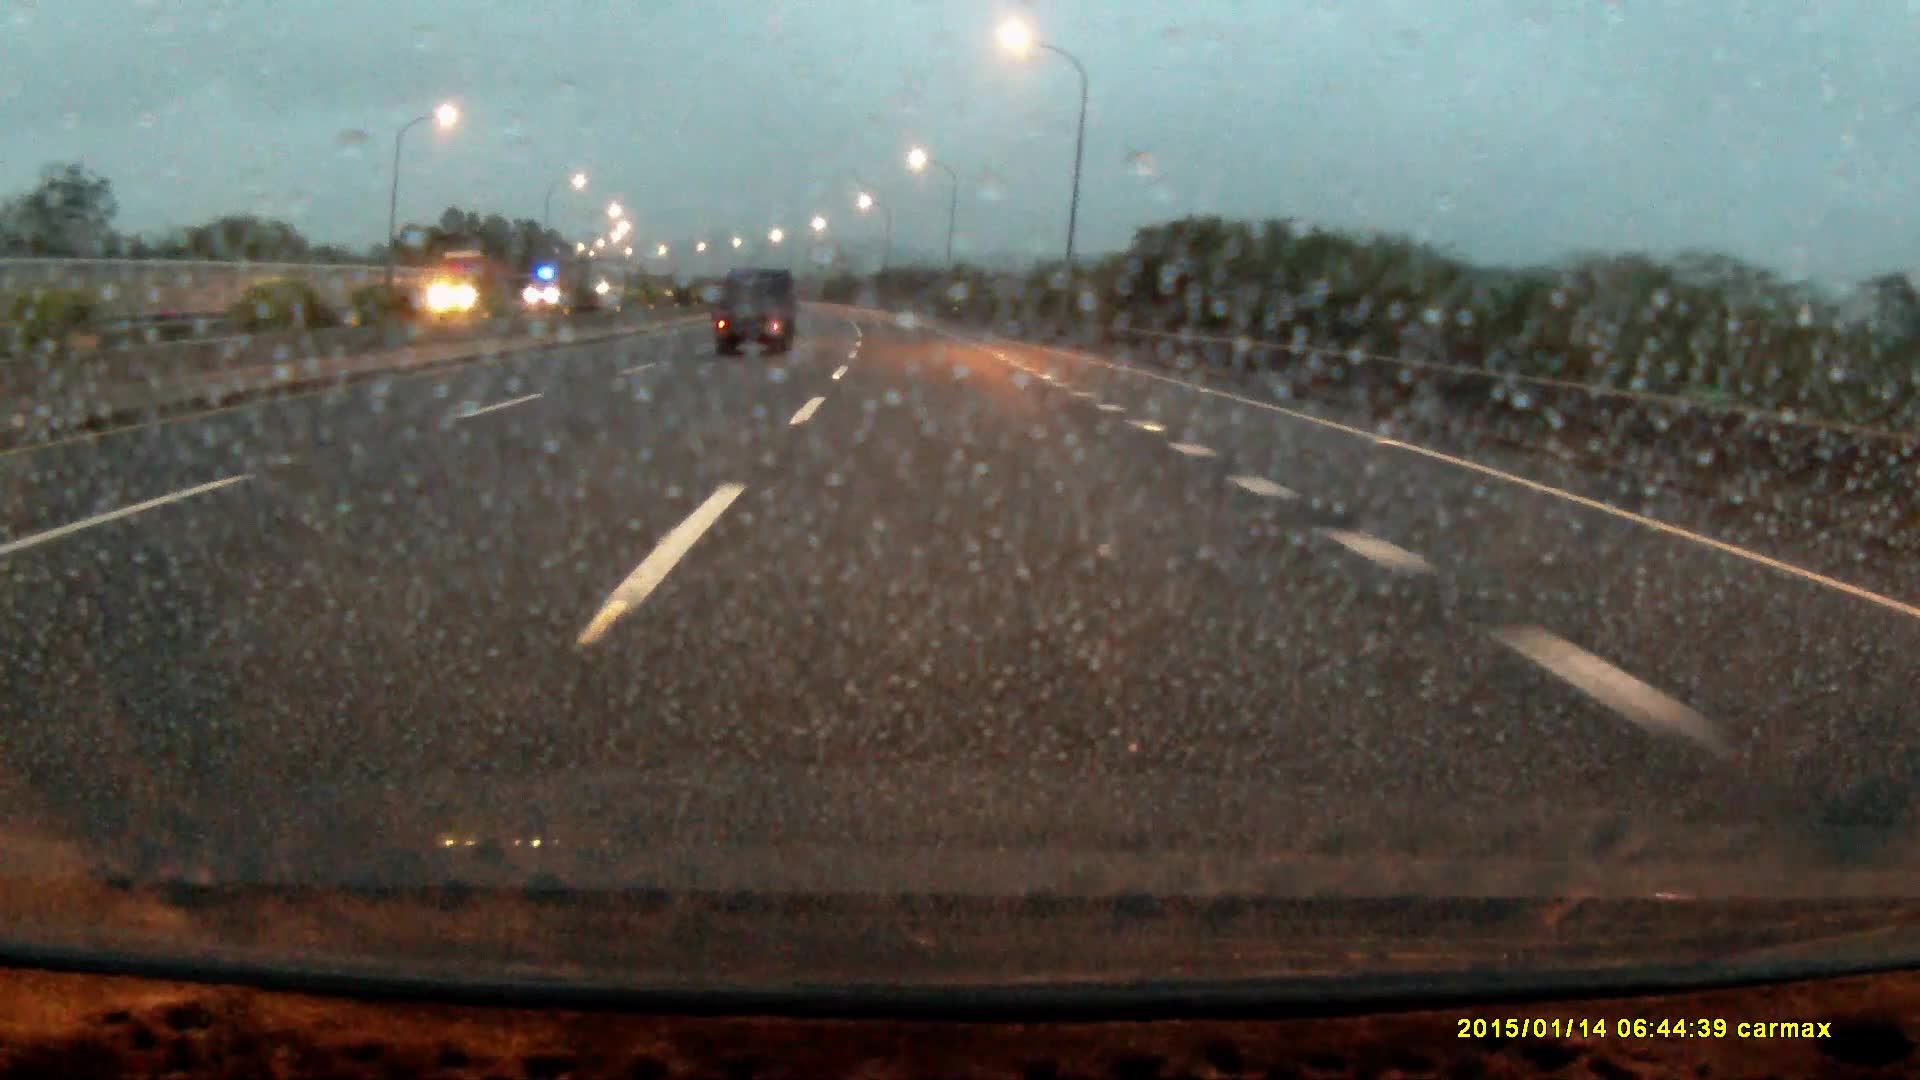vehicle: (716, 266, 796, 360), (434, 251, 517, 315)
